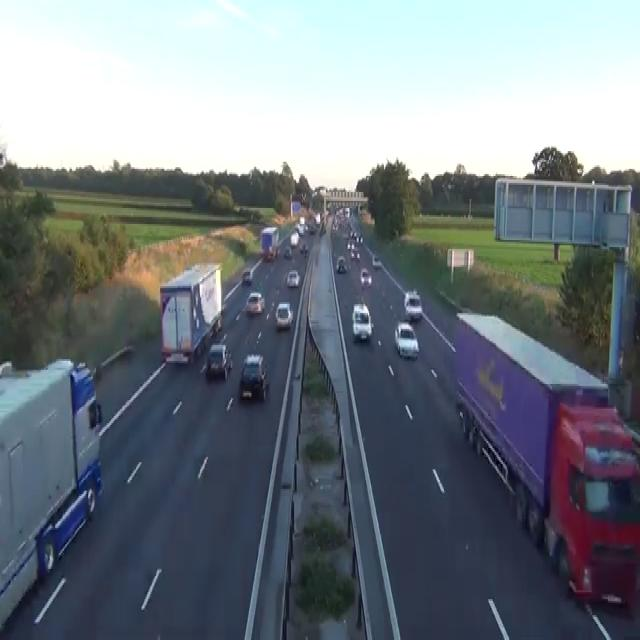Car: (239, 352, 268, 400), (206, 343, 232, 379), (394, 322, 419, 359), (351, 303, 373, 342), (403, 290, 422, 320), (275, 300, 293, 329), (245, 290, 264, 314), (286, 268, 300, 286), (210, 315, 222, 336), (0, 359, 12, 379), (360, 267, 372, 286), (241, 266, 253, 284), (335, 256, 347, 274), (265, 247, 275, 261), (350, 247, 360, 261), (290, 231, 299, 245), (372, 254, 381, 267), (283, 245, 292, 258), (299, 242, 308, 254), (0, 151, 6, 169), (307, 222, 316, 233), (350, 244, 357, 258), (319, 222, 326, 235), (216, 316, 221, 331), (300, 192, 306, 204), (331, 221, 338, 231), (446, 182, 454, 190), (221, 302, 226, 313), (346, 240, 351, 249), (299, 215, 304, 224), (356, 250, 360, 260), (359, 233, 363, 243), (275, 247, 279, 256)
Truck: (454, 309, 639, 615), (0, 356, 104, 631), (159, 262, 223, 364), (260, 226, 279, 261)
